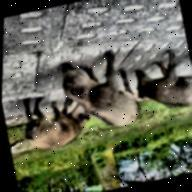boar: (46, 38, 156, 145), (124, 34, 192, 125), (13, 98, 99, 165)
